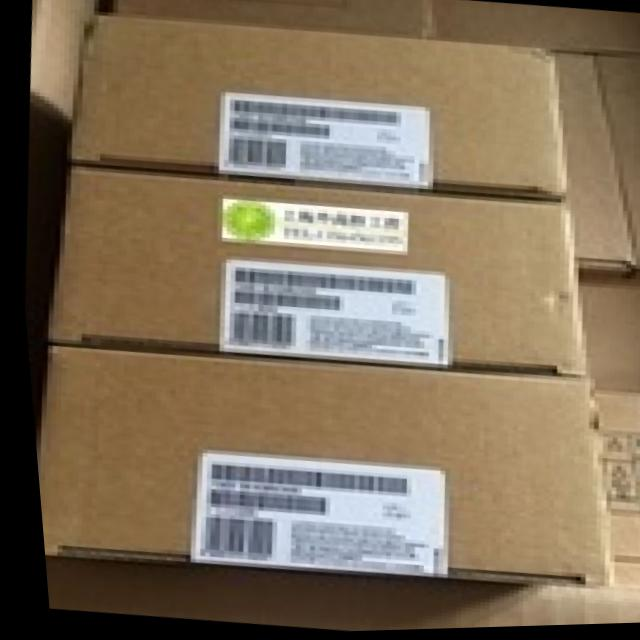box: (27, 341, 608, 590), (42, 162, 578, 378), (68, 15, 562, 206), (36, 557, 640, 633), (554, 49, 635, 283), (93, 0, 440, 36), (432, 0, 640, 55), (583, 379, 640, 565), (596, 56, 640, 283), (31, 0, 97, 131), (568, 278, 640, 394)
